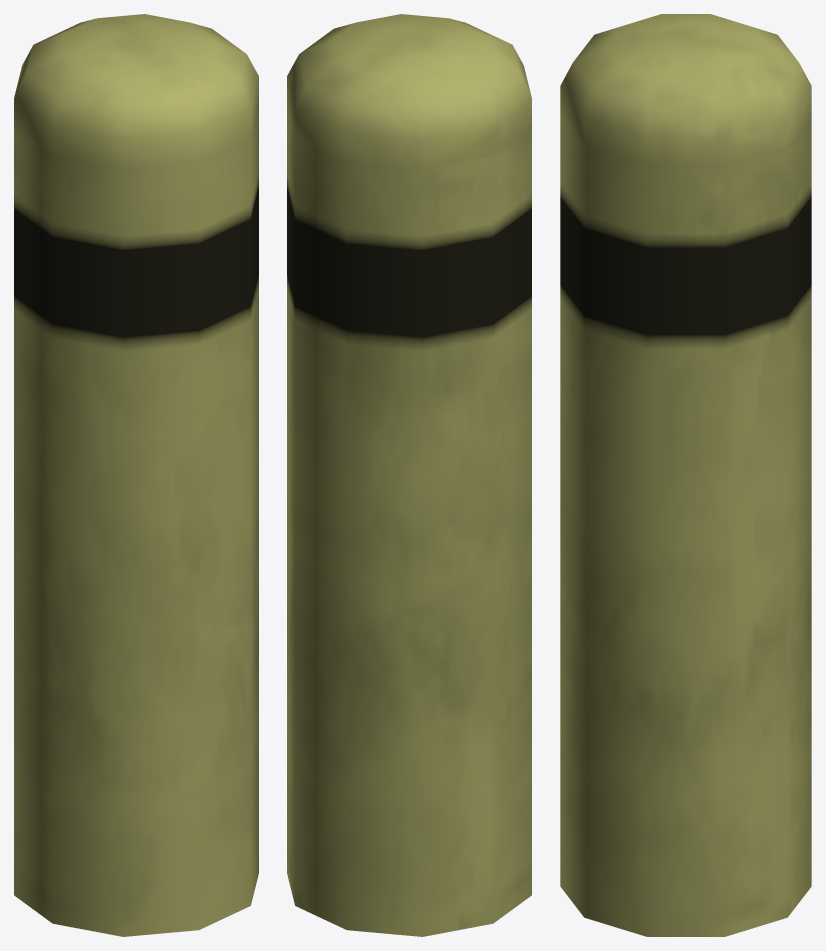
The model's file is Pole.fbx.
The picture shows the model from 3 angles, left to right: view 1: azimuth 30°, elevation 25°; view 2: azimuth 150°, elevation 25°; view 3: azimuth 270°, elevation 25°; orthographic projection.
Parts seen in each view (by area): view 1: Cylinder; view 2: Cylinder; view 3: Cylinder.
Boxes of the visible parts, x1,y1,x2,y2 form: Cylinder: (14, 14, 258, 936); Cylinder: (287, 14, 531, 936); Cylinder: (560, 14, 811, 936).
Bounding box in the file's own units: 38.09 × 149 × 40.05.
